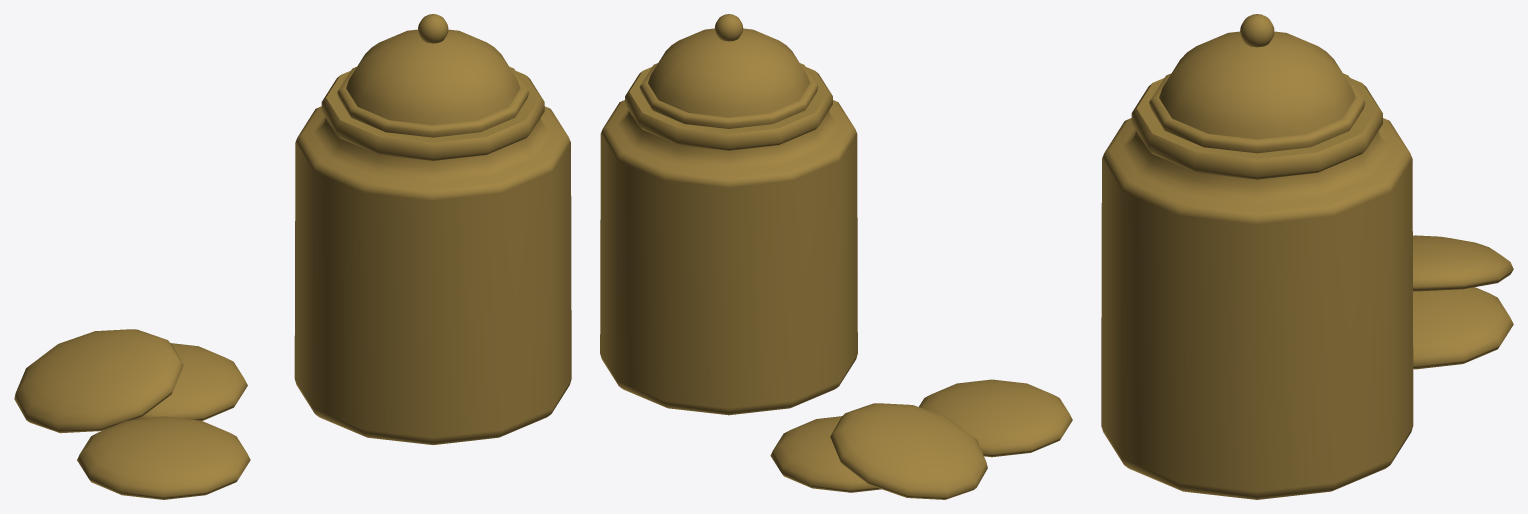
File: Cookies.fbx
3 renders of one model, left to right at view 1: azimuth 30°, elevation 25°; view 2: azimuth 150°, elevation 25°; view 3: azimuth 270°, elevation 25°, orthographic. The views are drawn at different scales.
Visible parts, largest first — view 1: Cookie_Jar_01, Cookie_Jar_02, Cookie_01, Cookie_03, Cookie_02, Cookie_Jar_03; view 2: Cookie_Jar_01, Cookie_Jar_02, Cookie_01, Cookie_03, Cookie_02, Cookie_Jar_03; view 3: Cookie_Jar_01, Cookie_Jar_02, Cookie_02, Cookie_01, Cookie_Jar_03.
Part boxes in pixels (box(x1,y1,x2,y2)): Cookie_Jar_01: box(294, 70, 571, 444); Cookie_Jar_02: box(337, 29, 528, 137); Cookie_01: box(14, 329, 183, 433); Cookie_03: box(77, 416, 250, 499); Cookie_02: box(135, 343, 247, 420); Cookie_Jar_03: box(418, 14, 448, 43); Cookie_Jar_01: box(600, 67, 857, 415); Cookie_Jar_02: box(639, 28, 818, 128); Cookie_01: box(830, 403, 987, 499); Cookie_03: box(919, 379, 1072, 457); Cookie_02: box(770, 416, 881, 492); Cookie_Jar_03: box(714, 14, 743, 41); Cookie_Jar_01: box(1101, 78, 1413, 499); Cookie_Jar_02: box(1149, 31, 1365, 153); Cookie_02: box(1413, 287, 1513, 369); Cookie_01: box(1413, 235, 1513, 291); Cookie_Jar_03: box(1240, 14, 1274, 47).
Bounding box in the file's own units: 35.64 × 27.29 × 23.98.
